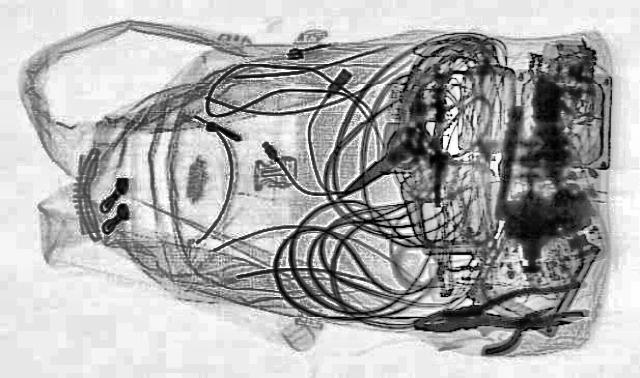Pliers: (402, 278, 600, 346)
